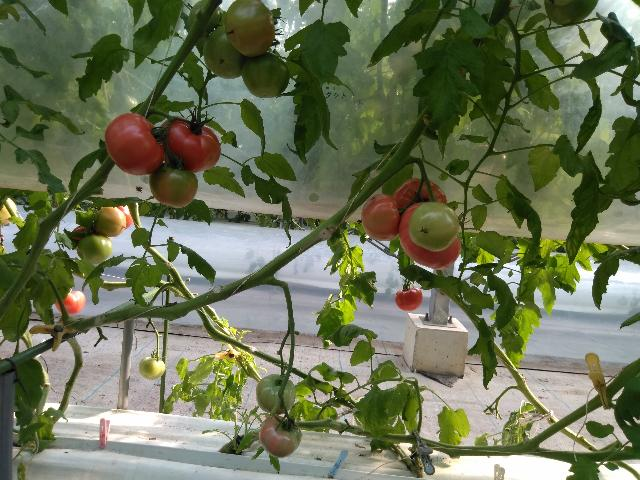b_fully_ripened: (398, 202, 461, 271), (104, 113, 165, 176), (159, 116, 221, 173), (392, 178, 447, 218), (54, 291, 86, 314), (395, 288, 423, 311), (117, 205, 133, 230)
b_green: (225, 0, 275, 57), (408, 202, 460, 252), (204, 25, 247, 79), (242, 50, 290, 98), (149, 163, 198, 208), (256, 373, 296, 415), (544, 0, 599, 26), (188, 0, 223, 35), (76, 235, 113, 265), (93, 207, 127, 237), (139, 356, 165, 380)
b_half_ripened: (362, 193, 400, 242), (259, 415, 302, 458), (0, 198, 17, 226)
